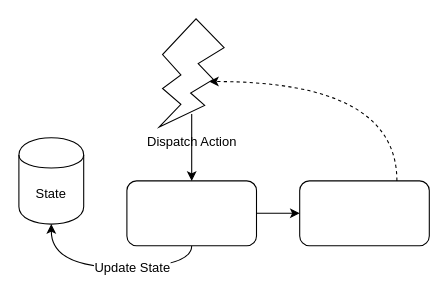
The diagram is 448 pixels wide and 294 high, and some of its shapes have lost their labels. The centre of each missing label's shape, as x and y in pixels:
"Asyncs" belongs at (x=364, y=213).
"Transforms" belongs at (x=191, y=213).
